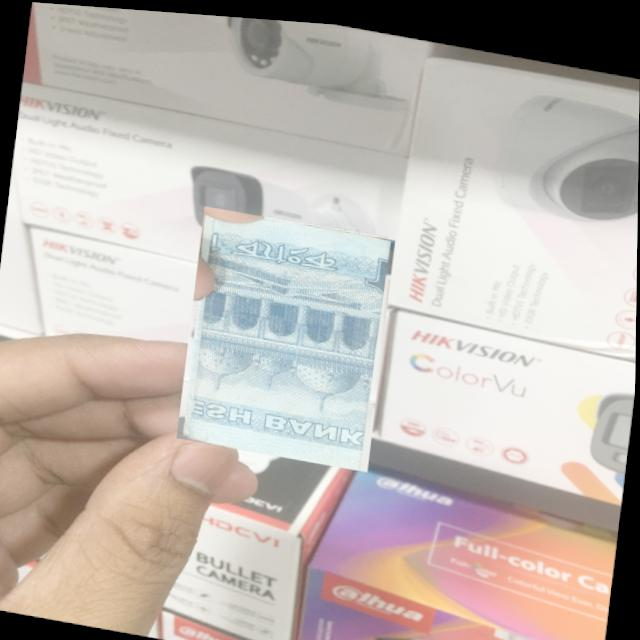Taka: (177, 201, 396, 468)
